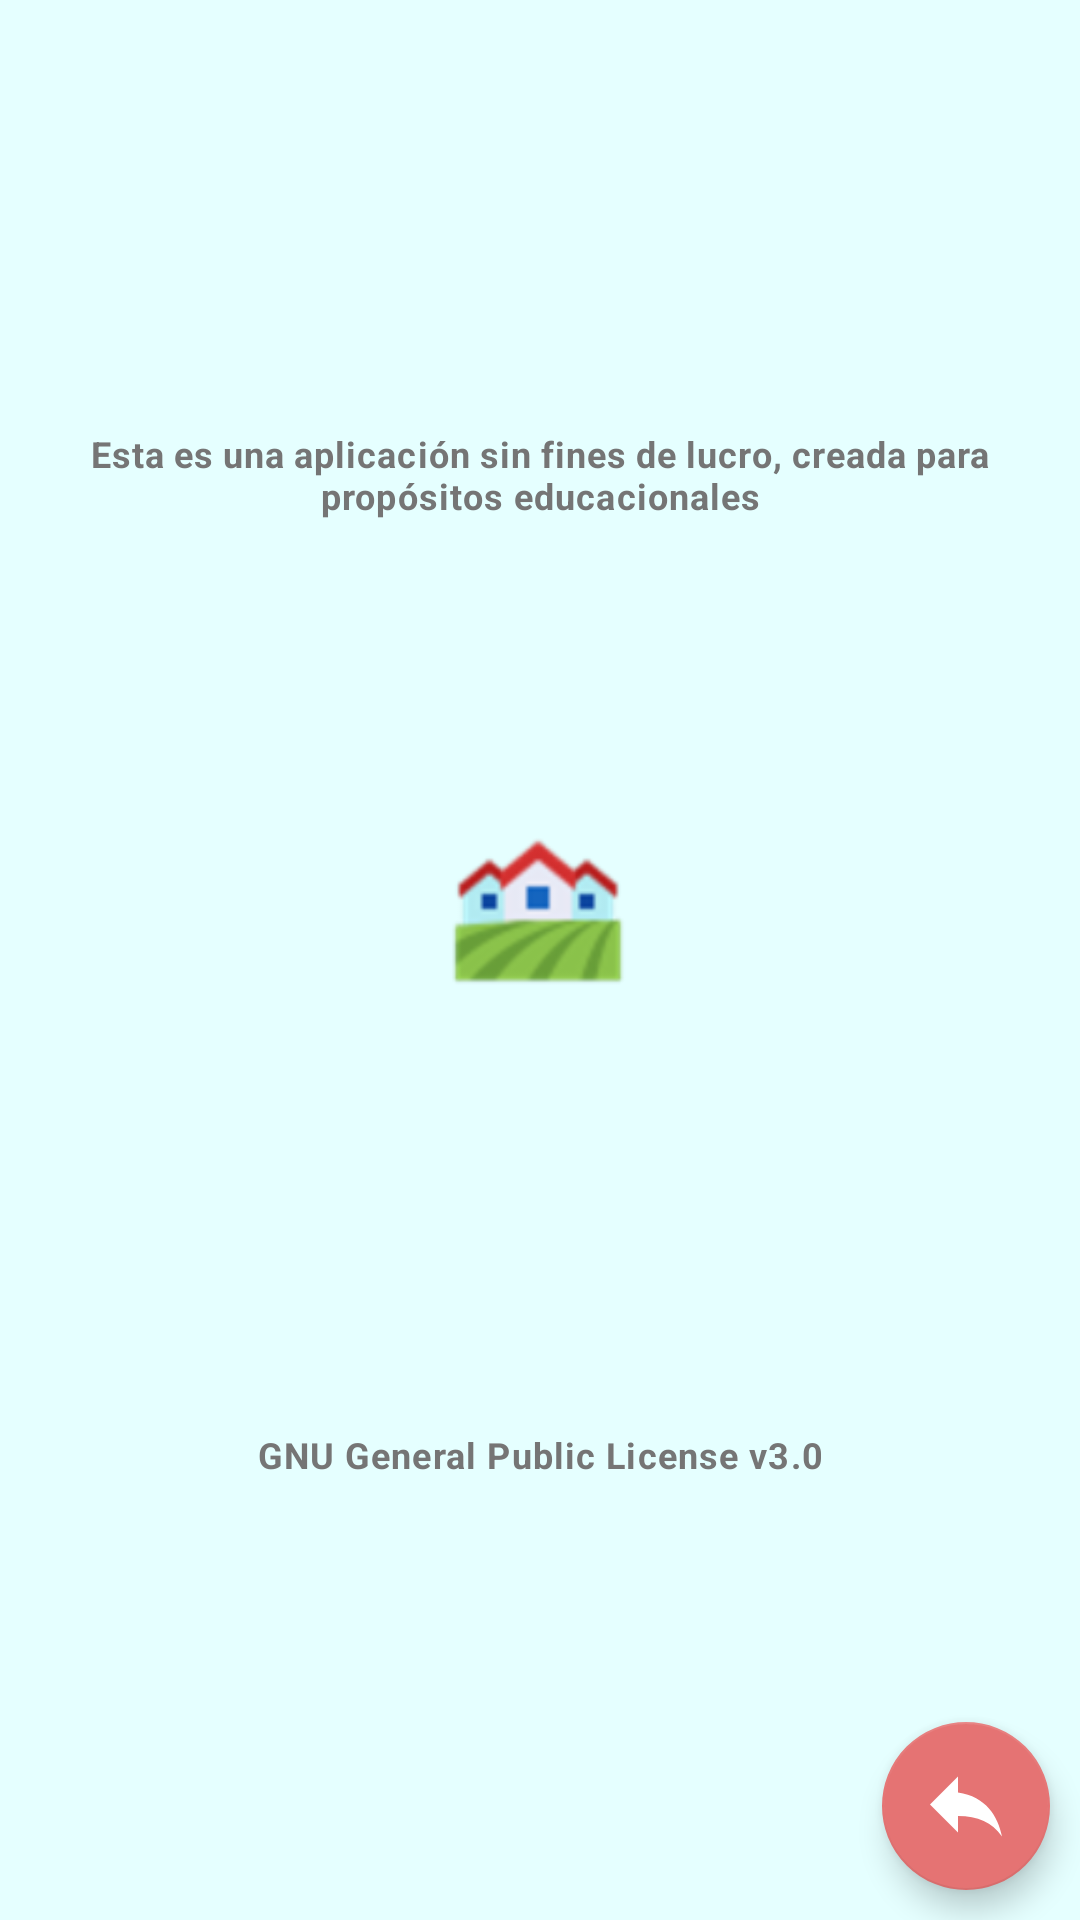

Screen size 1080 x 1920. Icon name, then its center in pixels as point (x, y):
return: point (966, 1806)
